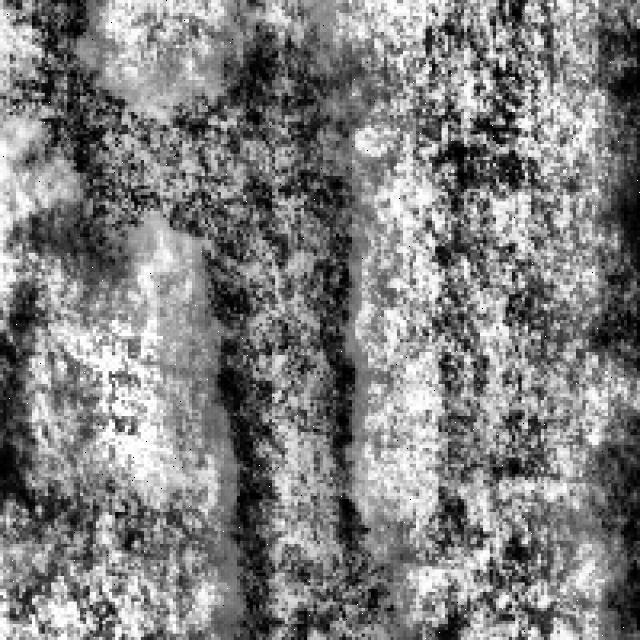Scratches: (182, 0, 413, 634), (3, 0, 176, 262)
